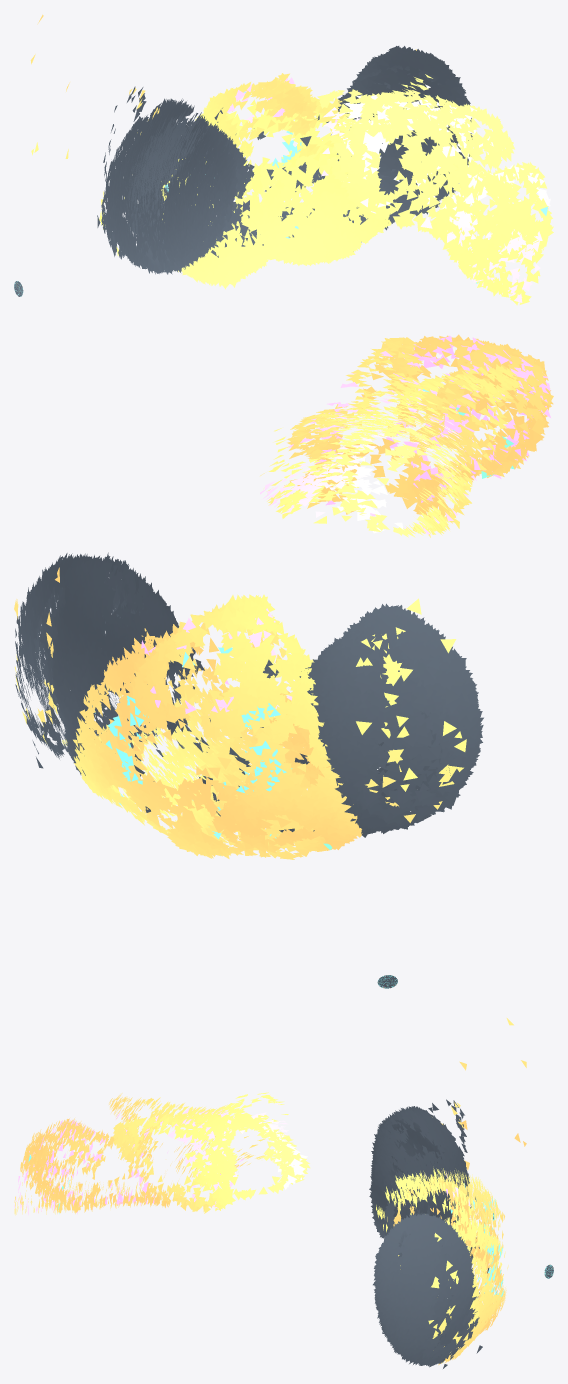
The model's file is brain_mini.glb.
The picture shows the model from 3 angles, top to bottom: view 1: azimuth 30°, elevation 25°; view 2: azimuth 150°, elevation 25°; view 3: azimuth 270°, elevation 25°; orthographic projection. The views are drawn at different scales.
Parts seen in each view (by area): view 1: mini_dim_2, mini_dim_0, mini_dim_3, mini_dim_1; view 2: mini_dim_2, mini_dim_0, mini_dim_3, mini_dim_1; view 3: mini_dim_2, mini_dim_0, mini_dim_3, mini_dim_1.
Part boxes in pixels (x1=…): mini_dim_2: x1=30, y1=14, x2=553, y2=305; mini_dim_0: x1=14, y1=46, x2=472, y2=296; mini_dim_3: x1=227, y1=73, x2=550, y2=302; mini_dim_1: x1=14, y1=91, x2=547, y2=296; mini_dim_2: x1=14, y1=334, x2=553, y2=987; mini_dim_0: x1=15, y1=552, x2=483, y2=988; mini_dim_3: x1=141, y1=335, x2=550, y2=715; mini_dim_1: x1=92, y1=647, x2=397, y2=988; mini_dim_2: x1=14, y1=1018, x2=549, y2=1365; mini_dim_0: x1=369, y1=1099, x2=553, y2=1368; mini_dim_3: x1=14, y1=1103, x2=496, y2=1235; mini_dim_1: x1=28, y1=1154, x2=553, y2=1296.
Bounding box in the file's own units: 2.29 × 1.72 × 3.23.
